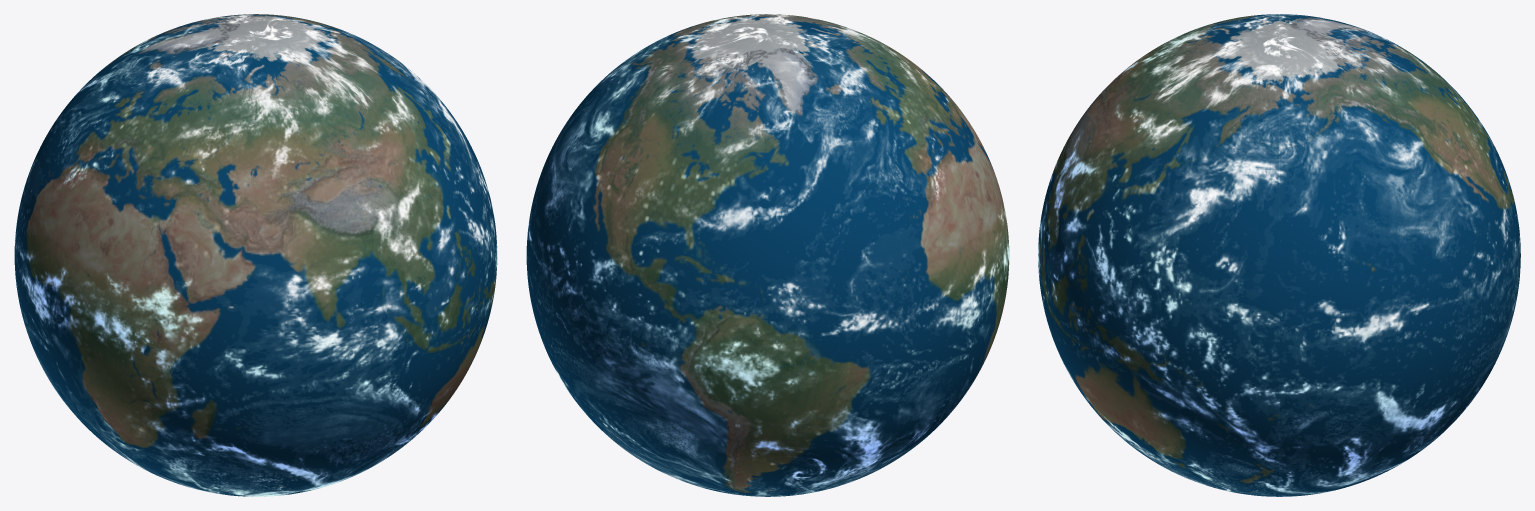
The model's file is earth-compressed.glb.
3 views of the same model, side by side, from view 1: azimuth 30°, elevation 25°; view 2: azimuth 150°, elevation 25°; view 3: azimuth 270°, elevation 25° (orthographic).
Visible parts, largest first — view 1: EARTHLayer1, EARTHLayer2; view 2: EARTHLayer1, EARTHLayer2; view 3: EARTHLayer1, EARTHLayer2.
Boxes of the visible parts, bbox=[...] form: EARTHLayer1: bbox=[14, 14, 497, 496]; EARTHLayer2: bbox=[15, 14, 497, 496]; EARTHLayer1: bbox=[526, 14, 1009, 496]; EARTHLayer2: bbox=[527, 14, 1009, 496]; EARTHLayer1: bbox=[1038, 14, 1520, 496]; EARTHLayer2: bbox=[1038, 14, 1520, 496].
Size of what is drawn, in the model's own units: 2.29 by 2.29 by 2.29.
2 materials, 2 textured.
